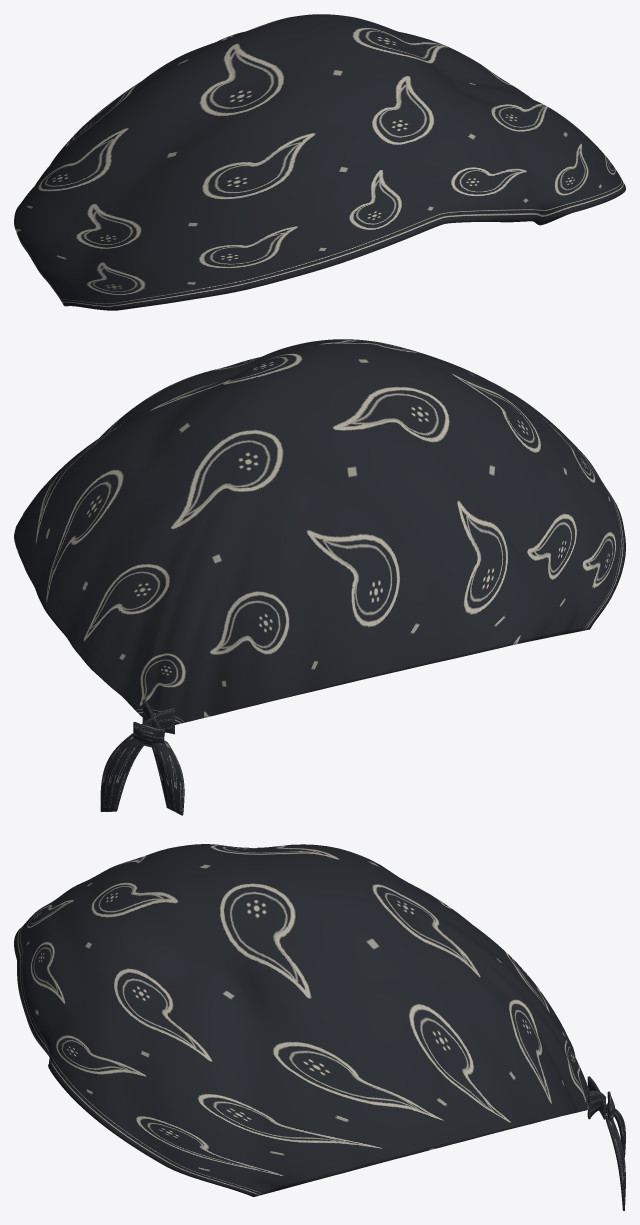
File: Feminine-bob-bandana.glb
The picture shows the model from 3 angles, top to bottom: view 1: azimuth 30°, elevation 25°; view 2: azimuth 150°, elevation 25°; view 3: azimuth 270°, elevation 25°; orthographic projection.
Parts seen in each view (by area): view 1: Bandana / folded crown scarf; view 2: Bandana / folded crown scarf, Bandana / falling tie 1, Bandana / falling tie -1; view 3: Bandana / folded crown scarf, Bandana / falling tie 1.
Part boxes in pixels (x1,y1,x2,y2): Bandana / folded crown scarf: [14, 14, 625, 310]; Bandana / folded crown scarf: [14, 339, 625, 724]; Bandana / falling tie 1: [100, 733, 144, 811]; Bandana / falling tie -1: [151, 740, 184, 815]; Bandana / folded crown scarf: [14, 844, 590, 1196]; Bandana / falling tie 1: [606, 1104, 625, 1210].
Bounding box in the file's own units: 0.7578 × 0.4314 × 0.7437.
Materials: 1 (1 with a texture image).
